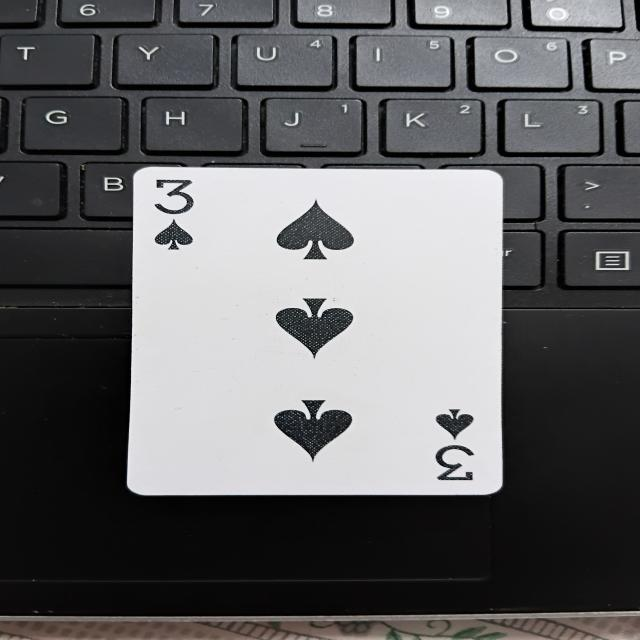3S: (123, 158, 504, 505)
